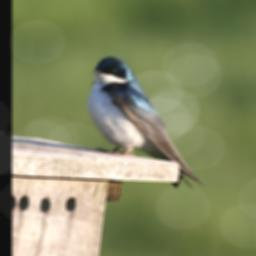Swallow: (78, 53, 214, 198)
